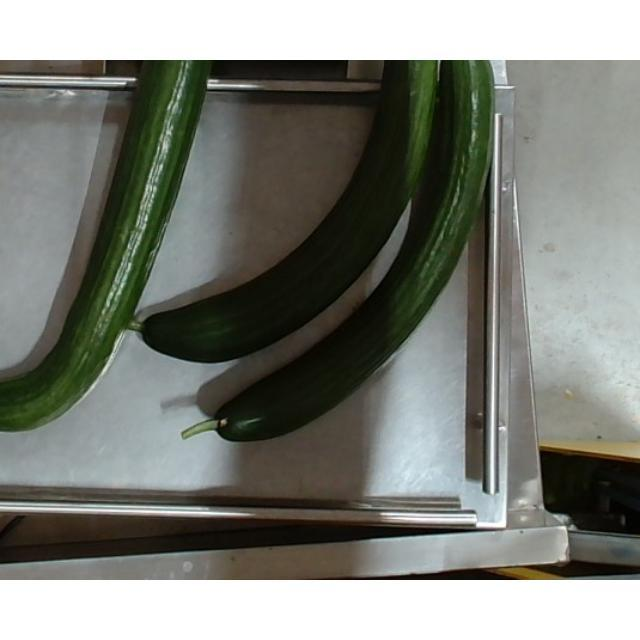cucumber: (181, 60, 493, 442), (124, 60, 438, 364), (0, 60, 212, 434)
